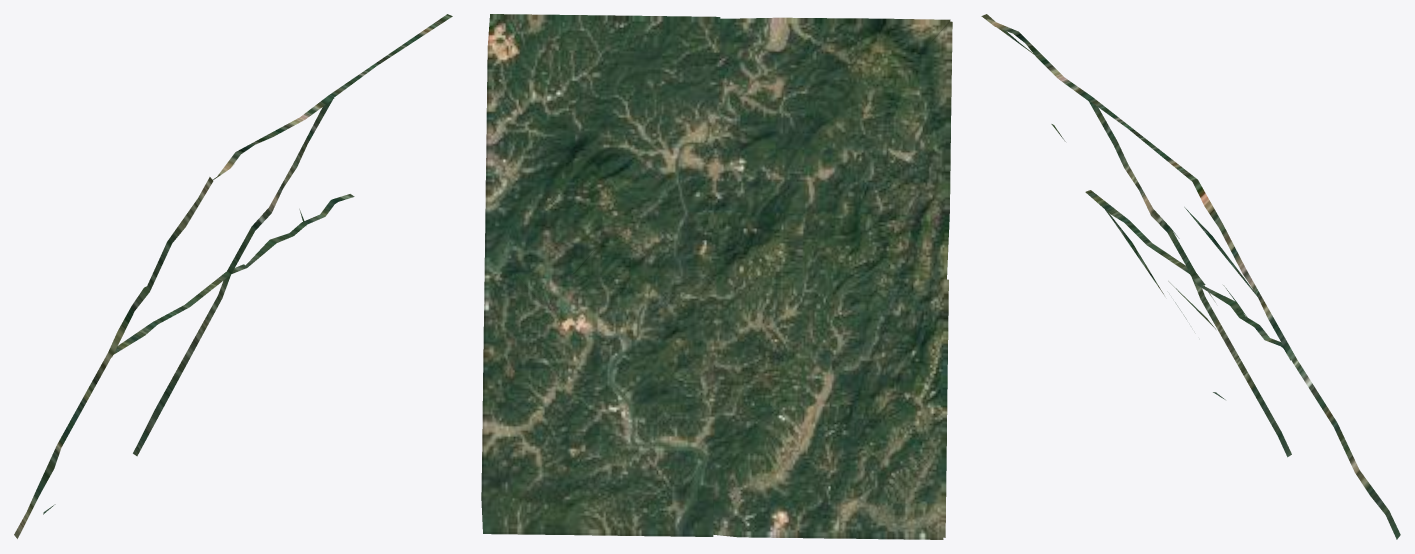
3 renders of one model, left to right at view 1: azimuth 30°, elevation 25°; view 2: azimuth 150°, elevation 25°; view 3: azimuth 270°, elevation 25°, orthographic. The views are drawn at different scales.
Bounding box in the file's own units: 39459 × 35501 × 32948.
1 material, 1 textured.
